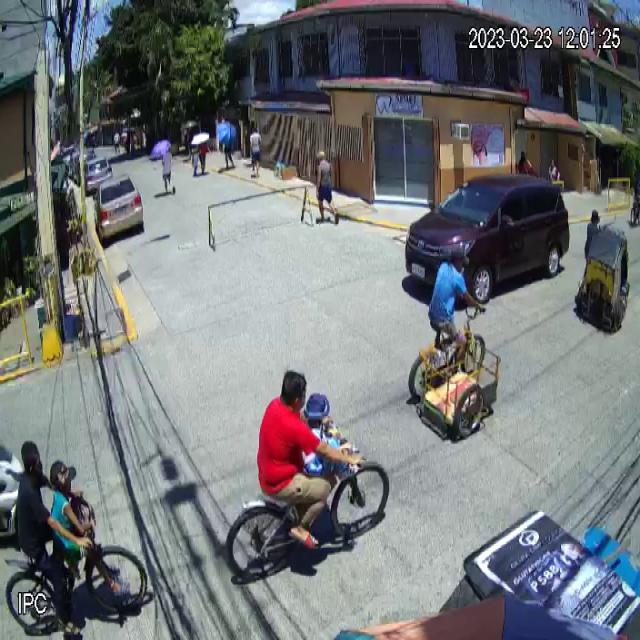Car: (403, 169, 571, 304)
